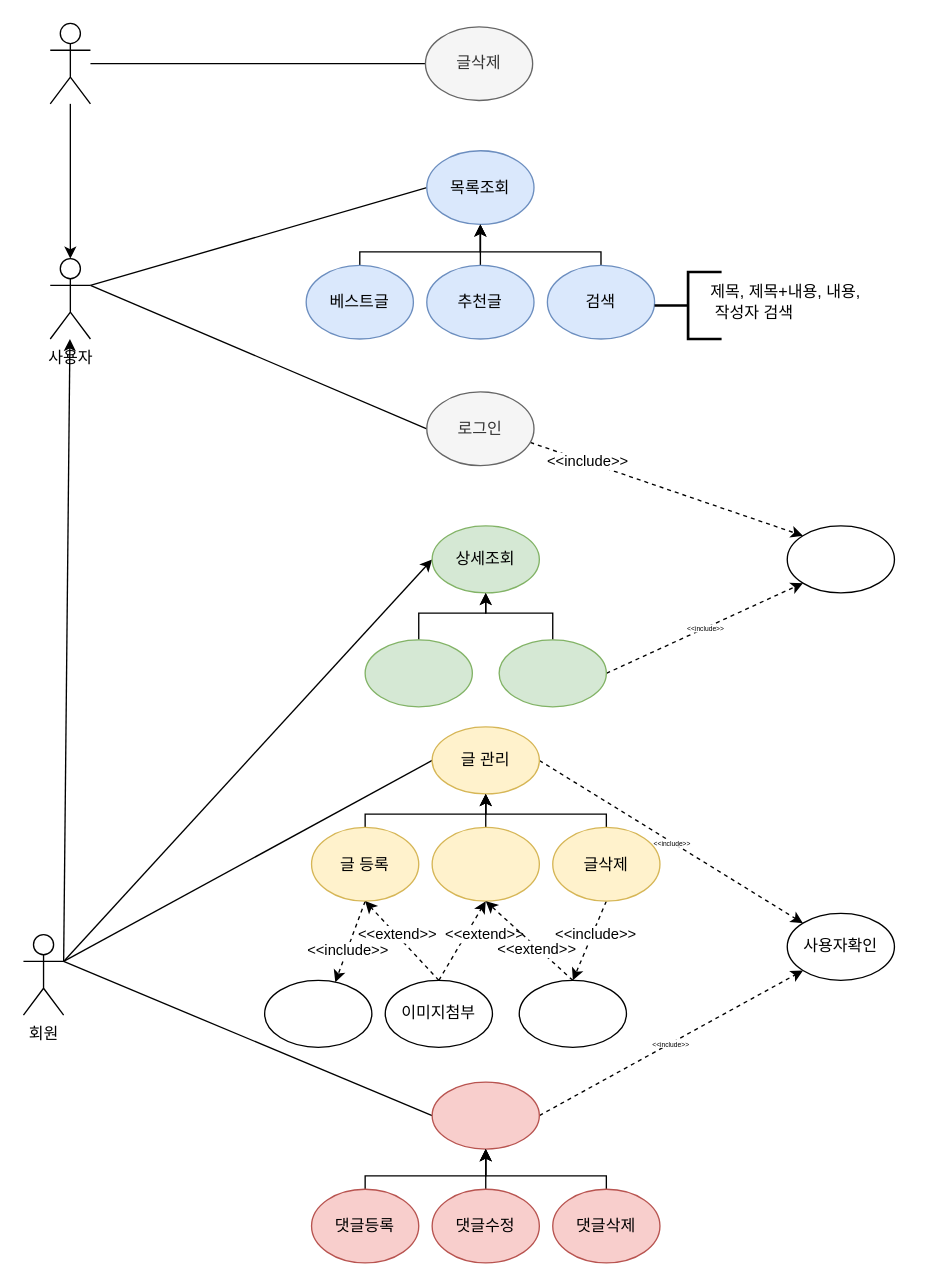
The diagram is 933 pixels wide and 1286 high, and some of its shapes have lost their labels. The centre of each missing label's shape, as x and y in pixels:
"관리자" belongs at [69,63].
"글수정" belongs at [485,863].
"댓글관리" belongs at [485,1115].
"사용자인증" belongs at [840,559].
"신고" belongs at [552,673].
"이미지삭제" belongs at [572,1013].
"추천" belongs at [418,673].
"포인트적립" belongs at [317,1013].
